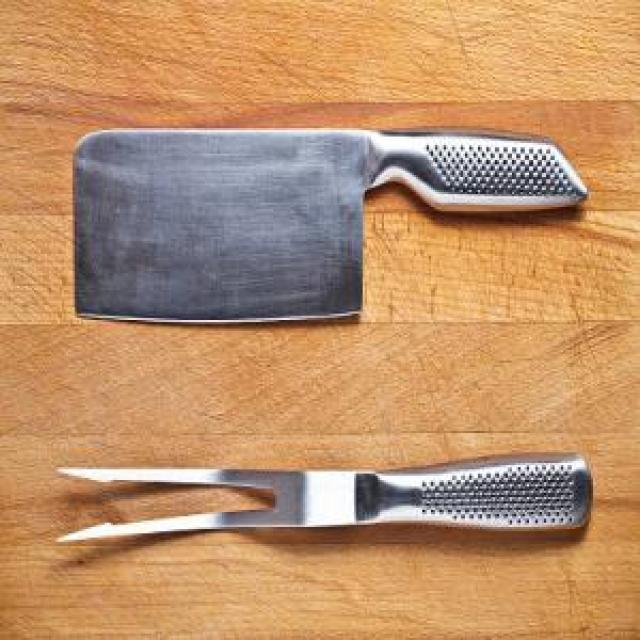knife: (72, 128, 589, 324)
